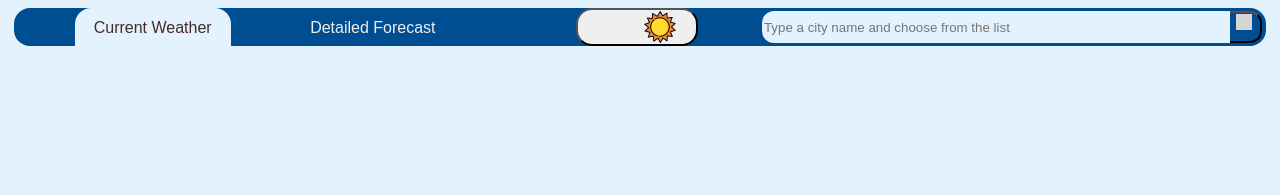
Navbar › should generate a list of suggestions when the user types
Step 1. Type "Berlin" into the field with placeholder "Type a city name and choose from the list" → (996, 27), box [762, 11, 1230, 43]
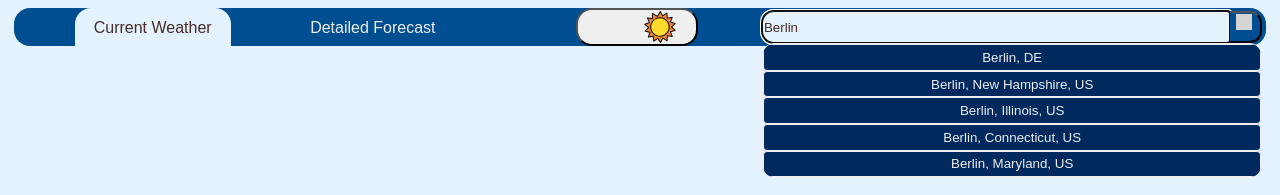
Result: the button "Berlin, DE" is shown at [763, 44, 1261, 71]
Result: the button "Berlin, New Hampshire, US" is shown at [763, 71, 1261, 97]
Result: the button "Berlin, Illinois, US" is shown at [763, 97, 1261, 124]
